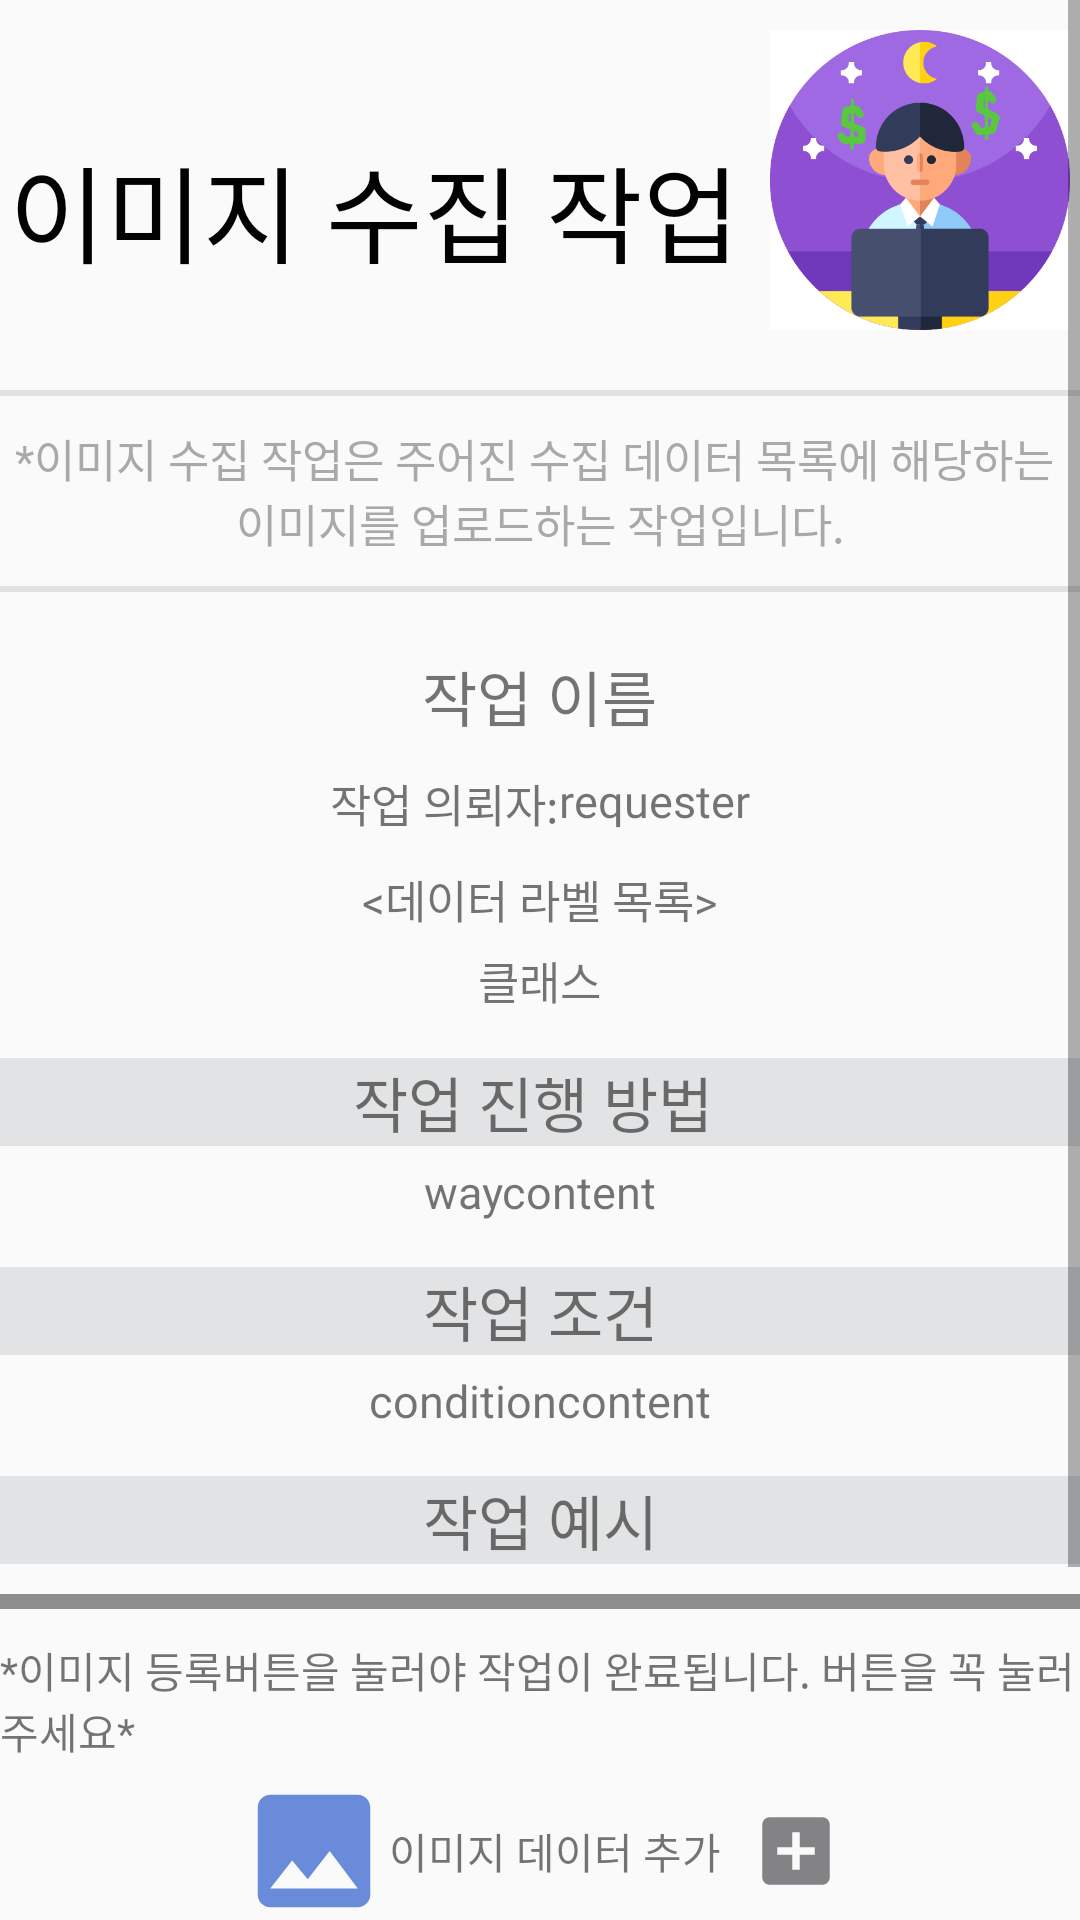

Where icons sit on this 1080px×1920px app screen, as bbox(x1, y1, x2, y2):
add box: bbox(762, 1817, 830, 1885)
